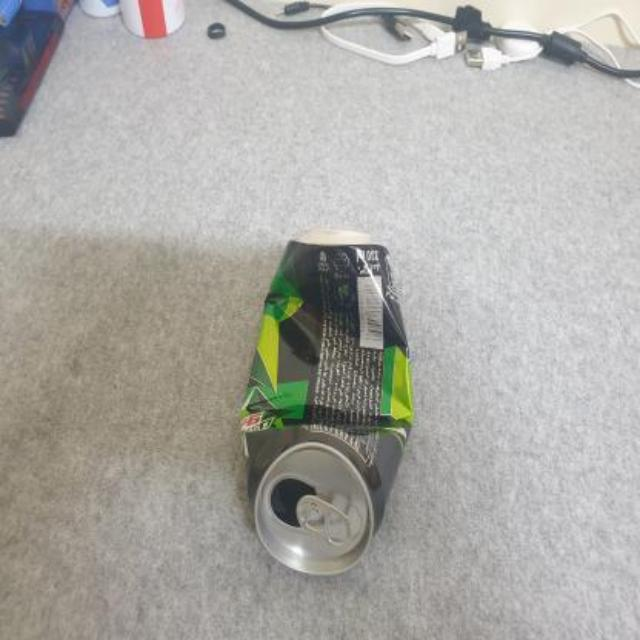metal: (240, 229, 409, 572)
